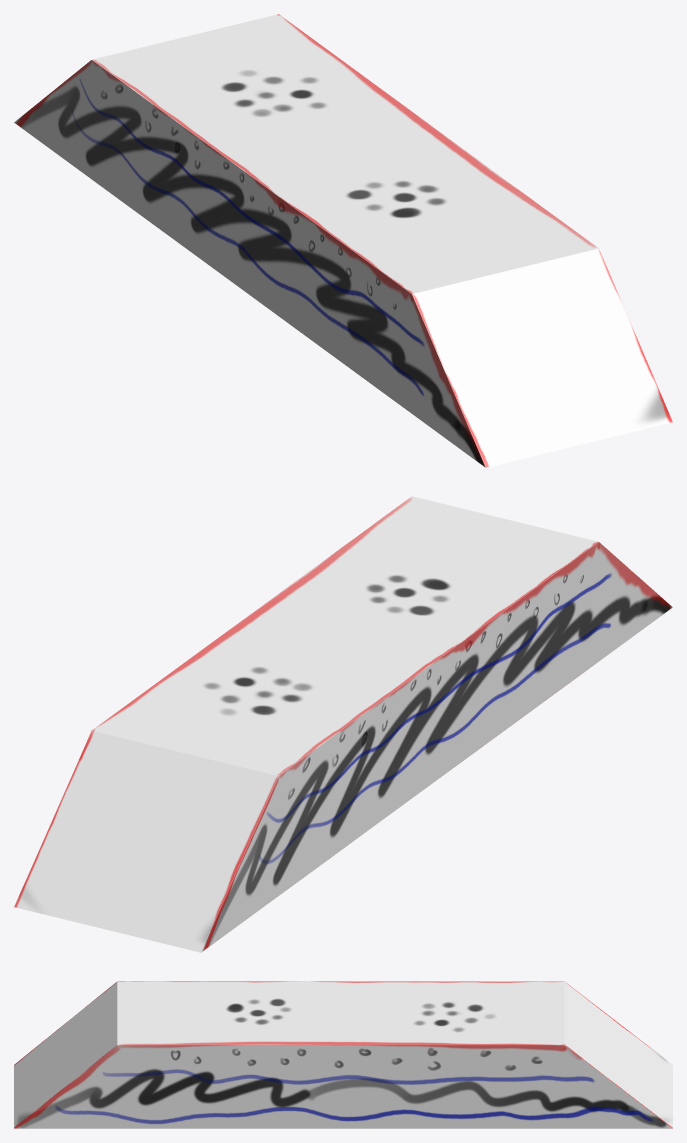
The picture shows the model from 3 angles, top to bottom: view 1: azimuth 30°, elevation 25°; view 2: azimuth 150°, elevation 25°; view 3: azimuth 270°, elevation 25°; orthographic projection. The views are drawn at different scales.
Visible parts, largest first — view 1: podi00; view 2: podi00; view 3: podi00.
Boxes of the visible parts, x1=… form: podi00: x1=14, y1=14, x2=672, y2=467; podi00: x1=14, y1=496, x2=672, y2=952; podi00: x1=14, y1=981, x2=672, y2=1128.
Bounding box in the file's own units: 200 × 122 × 873.
Materials: 1 (1 with a texture image).
